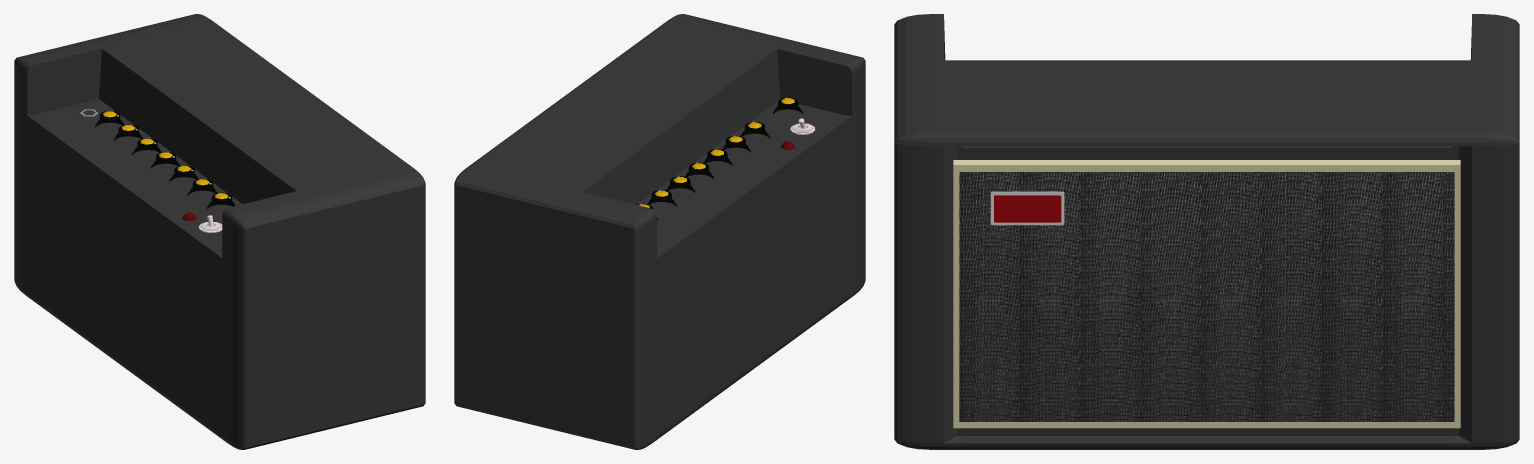
File: amp.glb
3 renders of one model, left to right at view 1: azimuth 30°, elevation 25°; view 2: azimuth 150°, elevation 25°; view 3: azimuth 270°, elevation 25°, orthographic. The views are drawn at different scales.
Visible parts, largest first — view 1: Cube; view 2: Cube; view 3: Plane, Cube, Cube.001, Circle.040, Circle.041.
Part boxes in pixels (<box>): Cube: <box>14,14,425,449</box>; Cube: <box>454,14,865,449</box>; Plane: <box>959,172,1454,421</box>; Cube: <box>894,14,1519,449</box>; Cube.001: <box>953,160,1460,428</box>; Circle.040: <box>994,195,1061,222</box>; Circle.041: <box>990,191,1064,225</box>.
Size of the model in its own units: 1.74 by 2 by 3.58.
14 materials, 1 textured.
